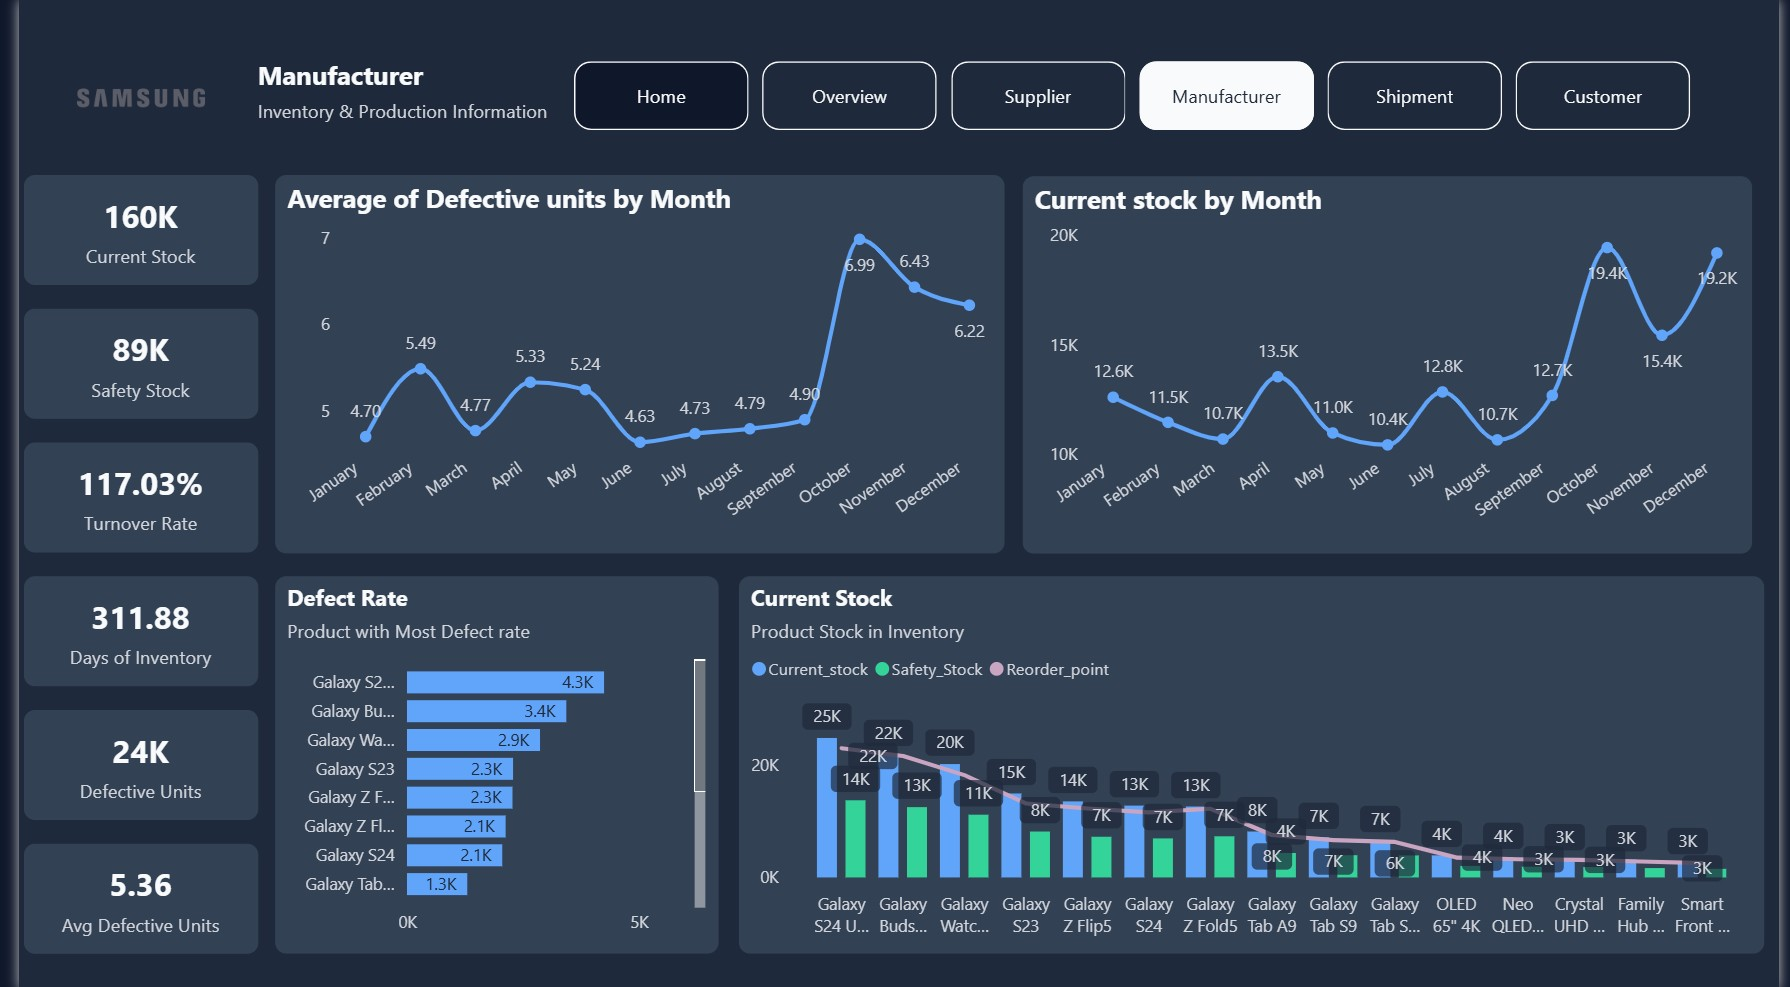

The page's visual inventory and layout, read from the dashboard file:
{"tool":"powerbi","page":{"name":"Manufacturer","canvas":[1280,720],"ordinal":3},"visuals":[{"type":"image","box":[16.7,0,144.4,142.2],"z":0},{"type":"card","fields":{"Values":["calculated_tbl.Safety_Stock"]},"box":[3.8,224.8,170,80],"z":1000},{"type":"card","fields":{"Values":["calculated_tbl.Turnover_rate"]},"box":[3.8,322,170,80],"z":2000},{"type":"card","fields":{"Values":["calculated_tbl.Days_of_inventory"]},"box":[3.8,419.2,170,80],"z":3000},{"type":"card","fields":{"Values":["Sum(fact_production.defective_units)"]},"box":[3.8,516.5,170,80],"z":4000},{"type":"card","fields":{"Values":["calculated_tbl.Current_stock"]},"box":[3.8,127.5,170,80],"z":5000},{"type":"card","fields":{"Values":["Avg(fact_production.defective_units)"]},"box":[3.8,613.8,170,80],"z":6000},{"type":"clusteredBarChart","title":"Defect Rate","fields":{"Category":["dim_product.product_name"],"Y":["calculated_tbl.Defect_rate"]},"box":[186.7,418.9,322.2,274.4],"z":7000},{"type":"lineClusteredColumnComboChart","title":"Current Stock","fields":{"Category":["dim_product.product_name"],"Y":["calculated_tbl.Current_stock","calculated_tbl.Safety_Stock"],"Y2":["calculated_tbl.Reorder_point"]},"box":[523.3,418.9,745.6,274.4],"z":8000},{"type":"lineChart","title":"Average of Defective units by Month","fields":{"Category":["dim_date.date.Variation.Date Hierarchy.Month"],"Y":["Avg(fact_production.defective_units)"]},"box":[186.2,127.5,530,275],"z":9000},{"type":"lineChart","title":"Current stock by Month","fields":{"Category":["dim_date.date.Variation.Date Hierarchy.Month"],"Y":["calculated_tbl.Current_stock"]},"box":[730,127.8,530,274.4],"z":10000},{"type":"shape","title":"Manufacturer","box":[173.3,42.2,241.1,56.7],"z":13000},{"type":"pageNavigator","box":[404,44.7,813.7,50.5],"z":13001}]}

Visuals, with their boxes in screenshot pixels (x1, y1, x2, y2), scaled from the page's 1280x720 canvas onto the 1790x987 screenshot:
image: select_region(23, 0, 225, 195)
card - calculated_tbl.Safety_Stock: select_region(5, 308, 243, 418)
card - calculated_tbl.Turnover_rate: select_region(5, 441, 243, 551)
card - calculated_tbl.Days_of_inventory: select_region(5, 575, 243, 684)
card - Sum(fact_production.defective_units): select_region(5, 708, 243, 818)
card - calculated_tbl.Current_stock: select_region(5, 175, 243, 284)
card - Avg(fact_production.defective_units): select_region(5, 841, 243, 951)
"Defect Rate" clusteredBarChart: select_region(261, 574, 712, 950)
"Current Stock" lineClusteredColumnComboChart: select_region(732, 574, 1774, 950)
"Average of Defective units by Month" lineChart: select_region(260, 175, 1002, 552)
"Current stock by Month" lineChart: select_region(1021, 175, 1762, 551)
"Manufacturer" shape: select_region(242, 58, 580, 136)
pageNavigator: select_region(565, 61, 1703, 131)
